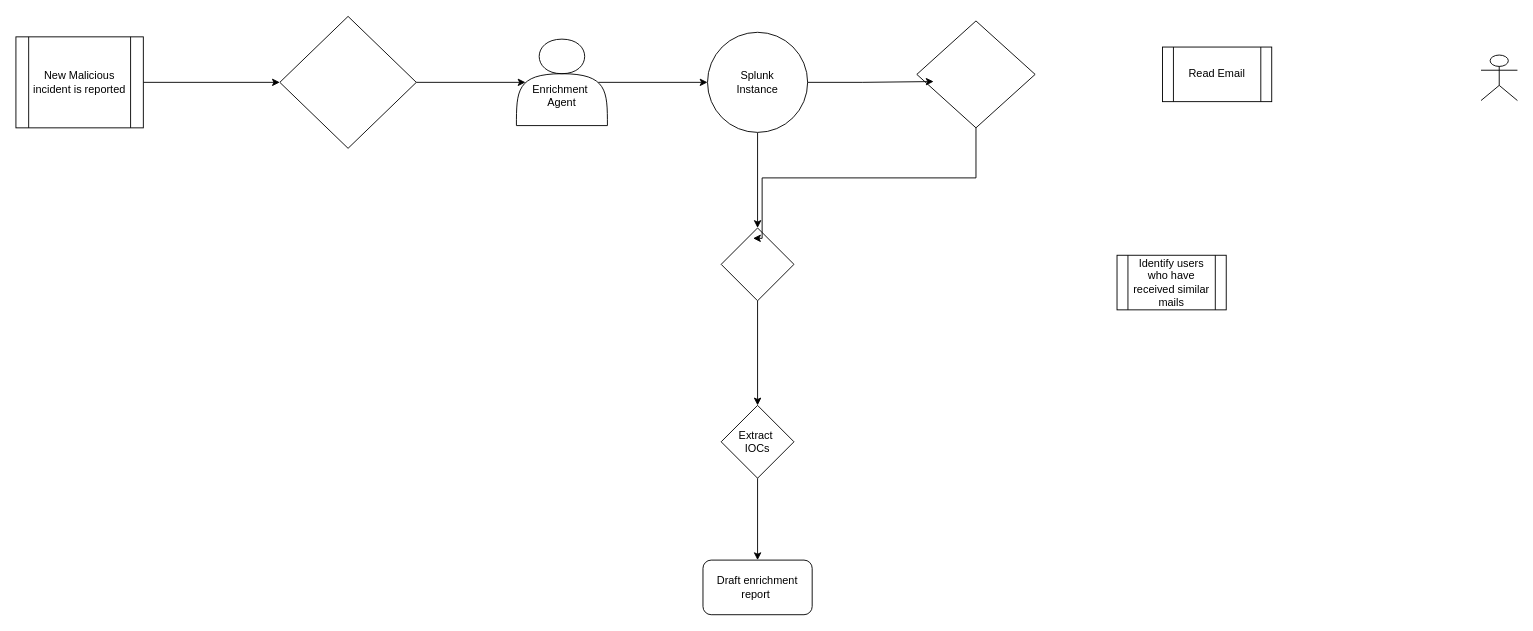
The diagram is 1533 pixels wide and 631 high, and some of its shapes have lost their labels. The shapes that lost their labels are listed below. From the top down, each one's box as (x1, y1, x2, y2) in pixels, then its label:
(279, 15, 416, 148): Extract users & mail properties
(916, 20, 1035, 128): Run SPL queries
(1480, 54, 1517, 101): Actor
(720, 227, 794, 301): Identify IOCs
